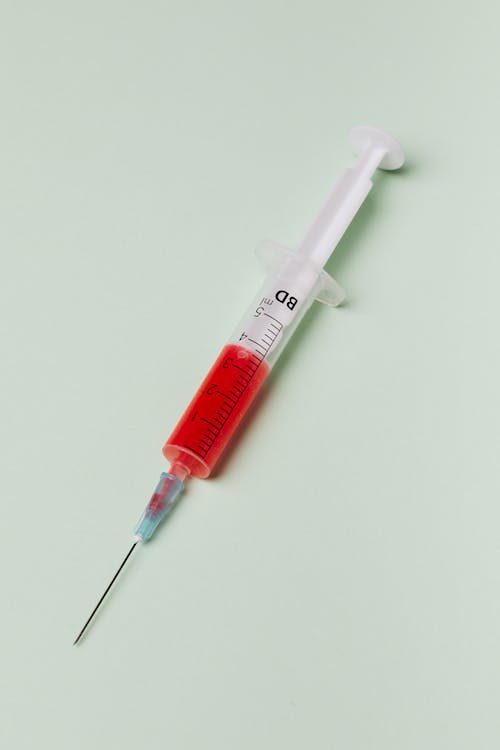blood: (143, 339, 272, 524)
